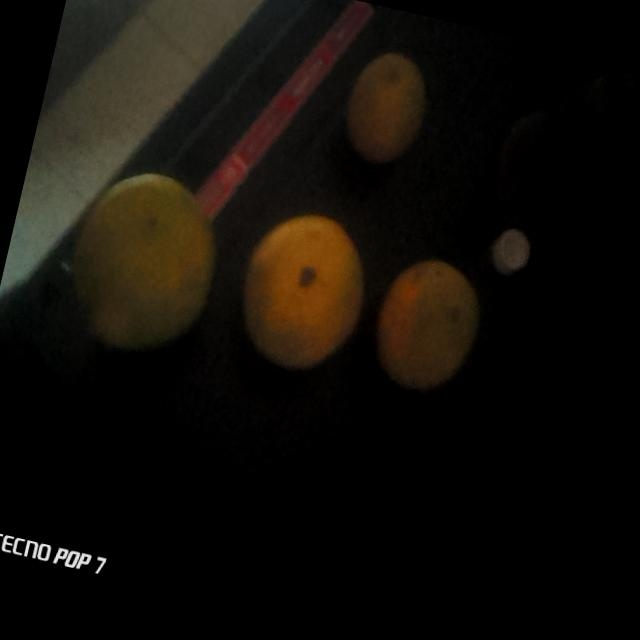agrume: (50, 159, 239, 364), (230, 200, 378, 387), (366, 249, 499, 400), (331, 43, 445, 169)
